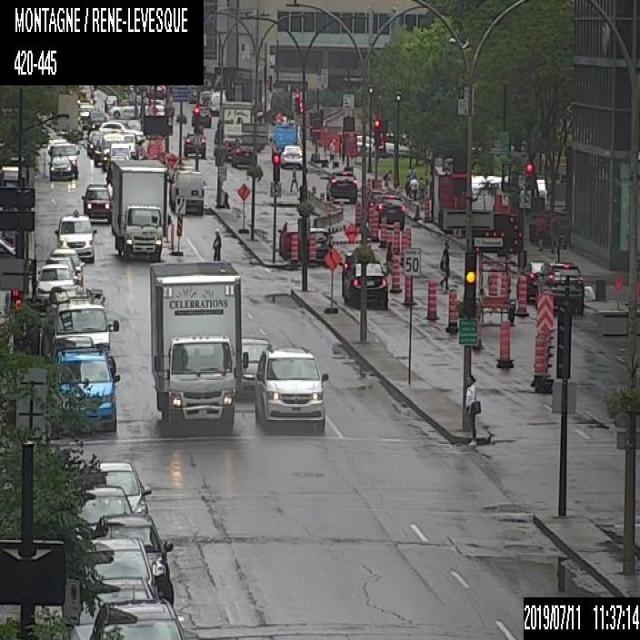construction: (529, 289, 555, 392), (323, 246, 340, 313), (495, 320, 512, 365), (235, 182, 249, 232), (514, 272, 529, 315), (446, 286, 458, 331), (425, 274, 437, 318), (342, 134, 356, 170), (389, 255, 401, 292), (500, 265, 510, 309), (488, 266, 498, 310), (612, 278, 624, 311), (401, 275, 414, 304), (345, 218, 359, 244), (288, 232, 297, 267), (369, 207, 378, 241), (307, 233, 316, 267), (320, 126, 328, 164), (392, 219, 401, 252), (399, 228, 408, 255), (333, 133, 340, 166), (423, 190, 430, 222), (380, 222, 387, 246), (355, 200, 361, 226), (146, 143, 154, 157)
pedestrian: (465, 372, 480, 444), (438, 239, 450, 289), (548, 212, 558, 252), (535, 212, 544, 251), (406, 171, 418, 200), (384, 239, 392, 273), (288, 167, 299, 190), (212, 228, 220, 259), (384, 168, 392, 185)
vehicle: (147, 260, 248, 436), (92, 512, 174, 607), (45, 346, 120, 434), (253, 347, 329, 432), (109, 158, 171, 261), (80, 534, 159, 599), (90, 598, 186, 638), (45, 301, 120, 351), (92, 458, 152, 515), (75, 484, 132, 536), (535, 258, 584, 312), (52, 208, 96, 262), (341, 260, 390, 307), (240, 336, 272, 399), (44, 286, 106, 316), (34, 264, 78, 306), (167, 169, 205, 214), (517, 258, 554, 302), (47, 246, 84, 282), (80, 182, 112, 222), (44, 254, 80, 287), (374, 193, 406, 229), (99, 119, 145, 144), (324, 168, 356, 203), (269, 124, 297, 164), (49, 141, 78, 174), (230, 135, 258, 167), (276, 218, 298, 258), (308, 220, 327, 259), (48, 153, 74, 180), (182, 130, 205, 157), (109, 98, 140, 116), (280, 143, 302, 168), (190, 103, 211, 128), (365, 188, 383, 216), (106, 143, 132, 159), (86, 108, 104, 130), (88, 132, 100, 158), (93, 138, 101, 166), (104, 95, 116, 109)
